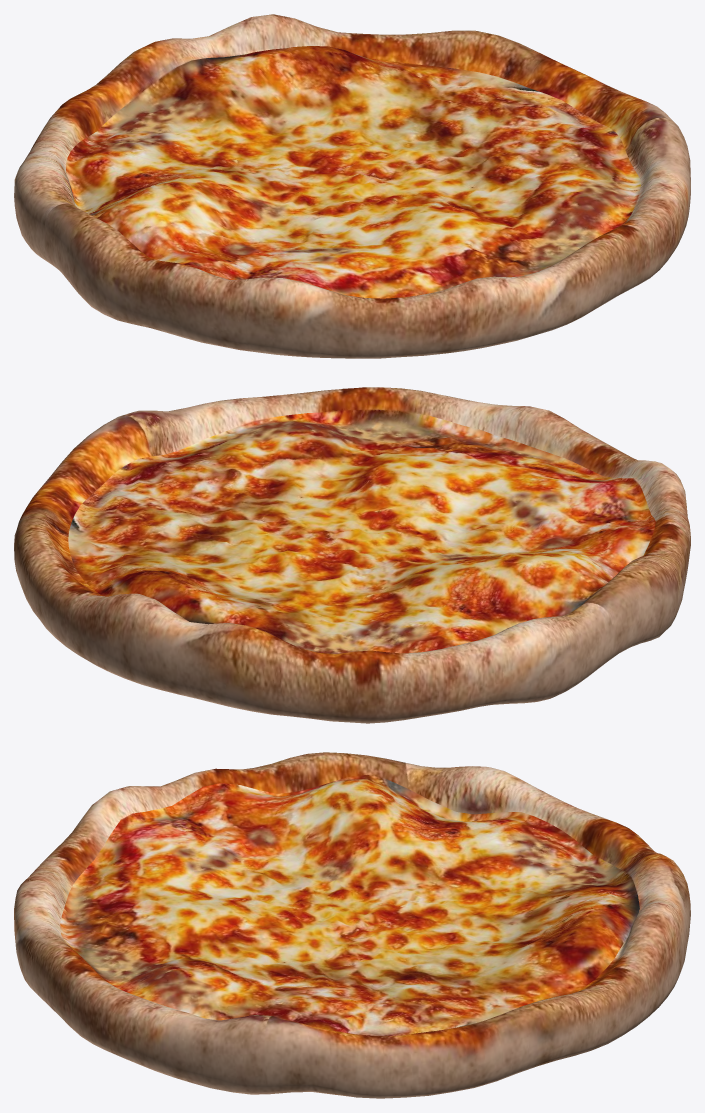
Rendered from pizza.glb.
3 renders of one model, top to bottom at view 1: azimuth 30°, elevation 25°; view 2: azimuth 150°, elevation 25°; view 3: azimuth 270°, elevation 25°, orthographic.
Visible parts, largest first — view 1: piza_low_01:Group259_0; view 2: piza_low_01:Group259_0; view 3: piza_low_01:Group259_0.
Part boxes in pixels (x1,y1,x2,y2): piza_low_01:Group259_0: [14, 14, 690, 358]; piza_low_01:Group259_0: [14, 387, 690, 723]; piza_low_01:Group259_0: [14, 752, 690, 1098].
Bounding box in the file's own units: 0.1422 × 0.0212 × 0.1418.
1 material, 1 textured.
